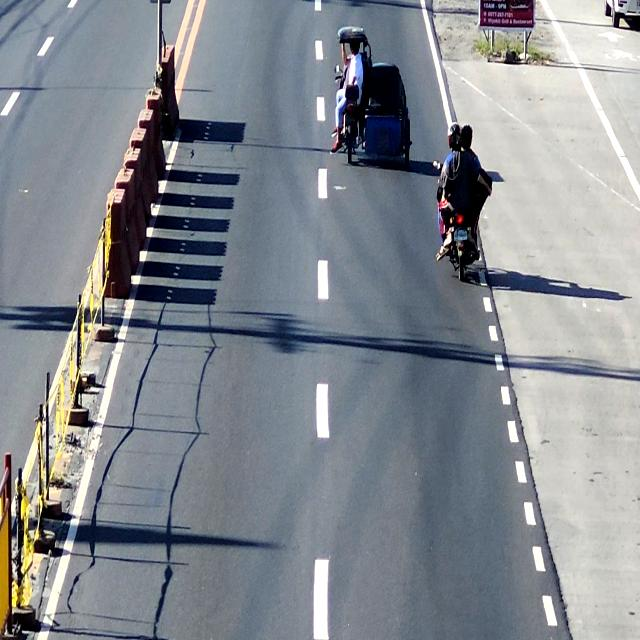Motorcycle: (438, 124, 488, 287)
Tricycle: (330, 24, 418, 172)
